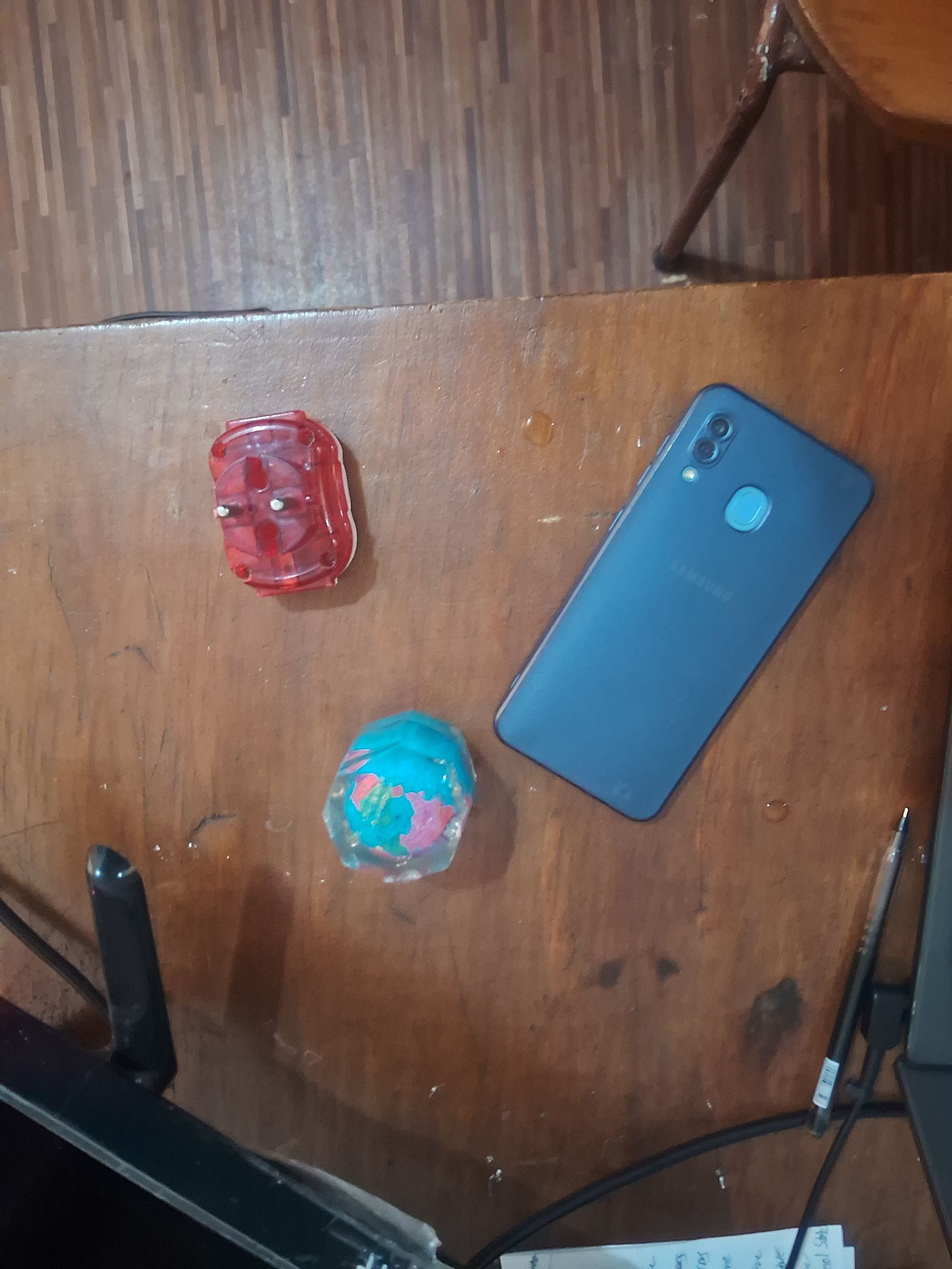Multi_adapter: (204, 405, 371, 607)
Smart_phone: (489, 369, 878, 828)
world_globe: (317, 704, 481, 889)
